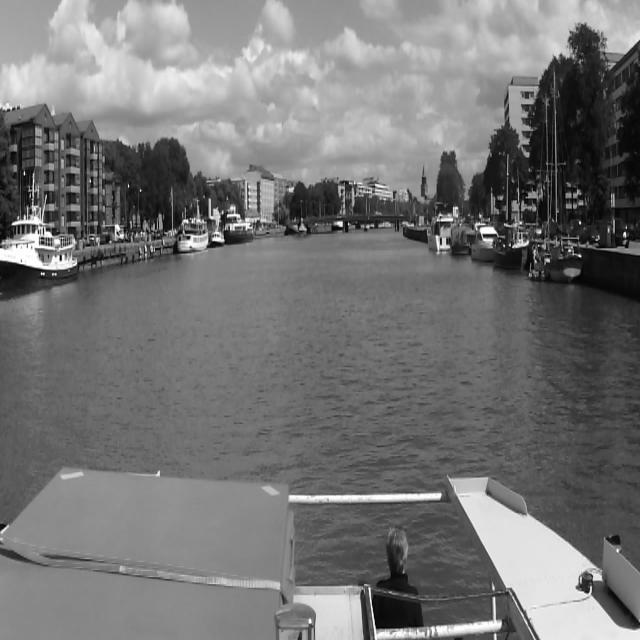ship: (530, 79, 582, 281), (2, 206, 78, 294), (488, 215, 528, 269), (177, 214, 208, 254), (427, 214, 451, 252), (224, 213, 253, 243), (473, 226, 493, 261), (452, 226, 470, 256), (285, 217, 299, 236), (209, 231, 224, 247), (299, 218, 307, 235)
